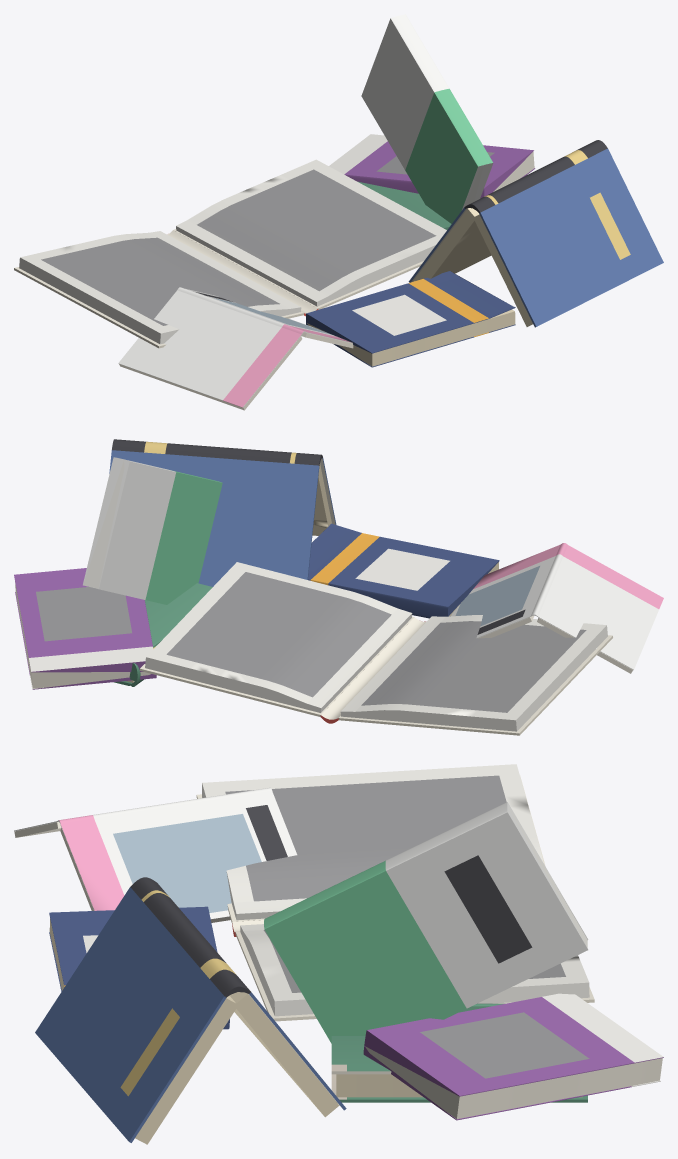
The model's file is paper_books_scattered_b.fbx.
3 views of the same model, one above another, from view 1: azimuth 30°, elevation 25°; view 2: azimuth 150°, elevation 25°; view 3: azimuth 270°, elevation 25° (orthographic). The views are drawn at different scales.
Visible parts, largest first — view 1: paper_books_scattered_b; view 2: paper_books_scattered_b; view 3: paper_books_scattered_b.
Part boxes in pixels (box(x1,y1,x2,y2)): paper_books_scattered_b: box(14, 14, 663, 410); paper_books_scattered_b: box(14, 439, 663, 735); paper_books_scattered_b: box(14, 764, 663, 1144).
Size of the model in its own units: 0.639 by 0.2201 by 0.5074.
